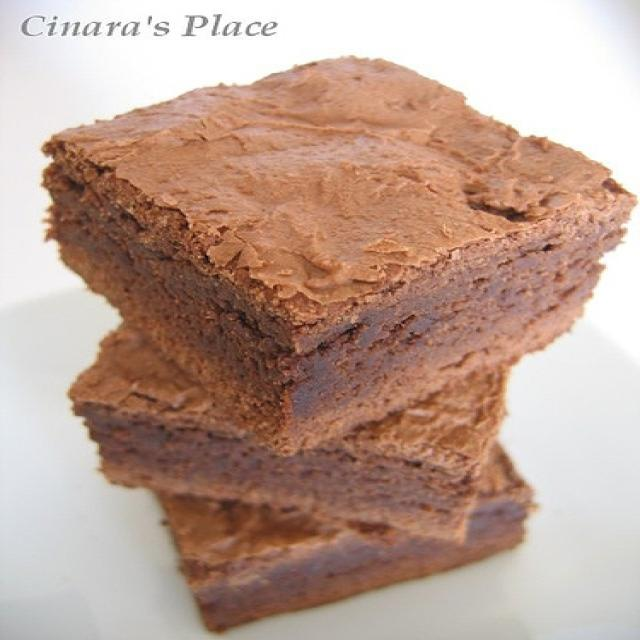蛋糕甜品: (31, 42, 621, 621)
